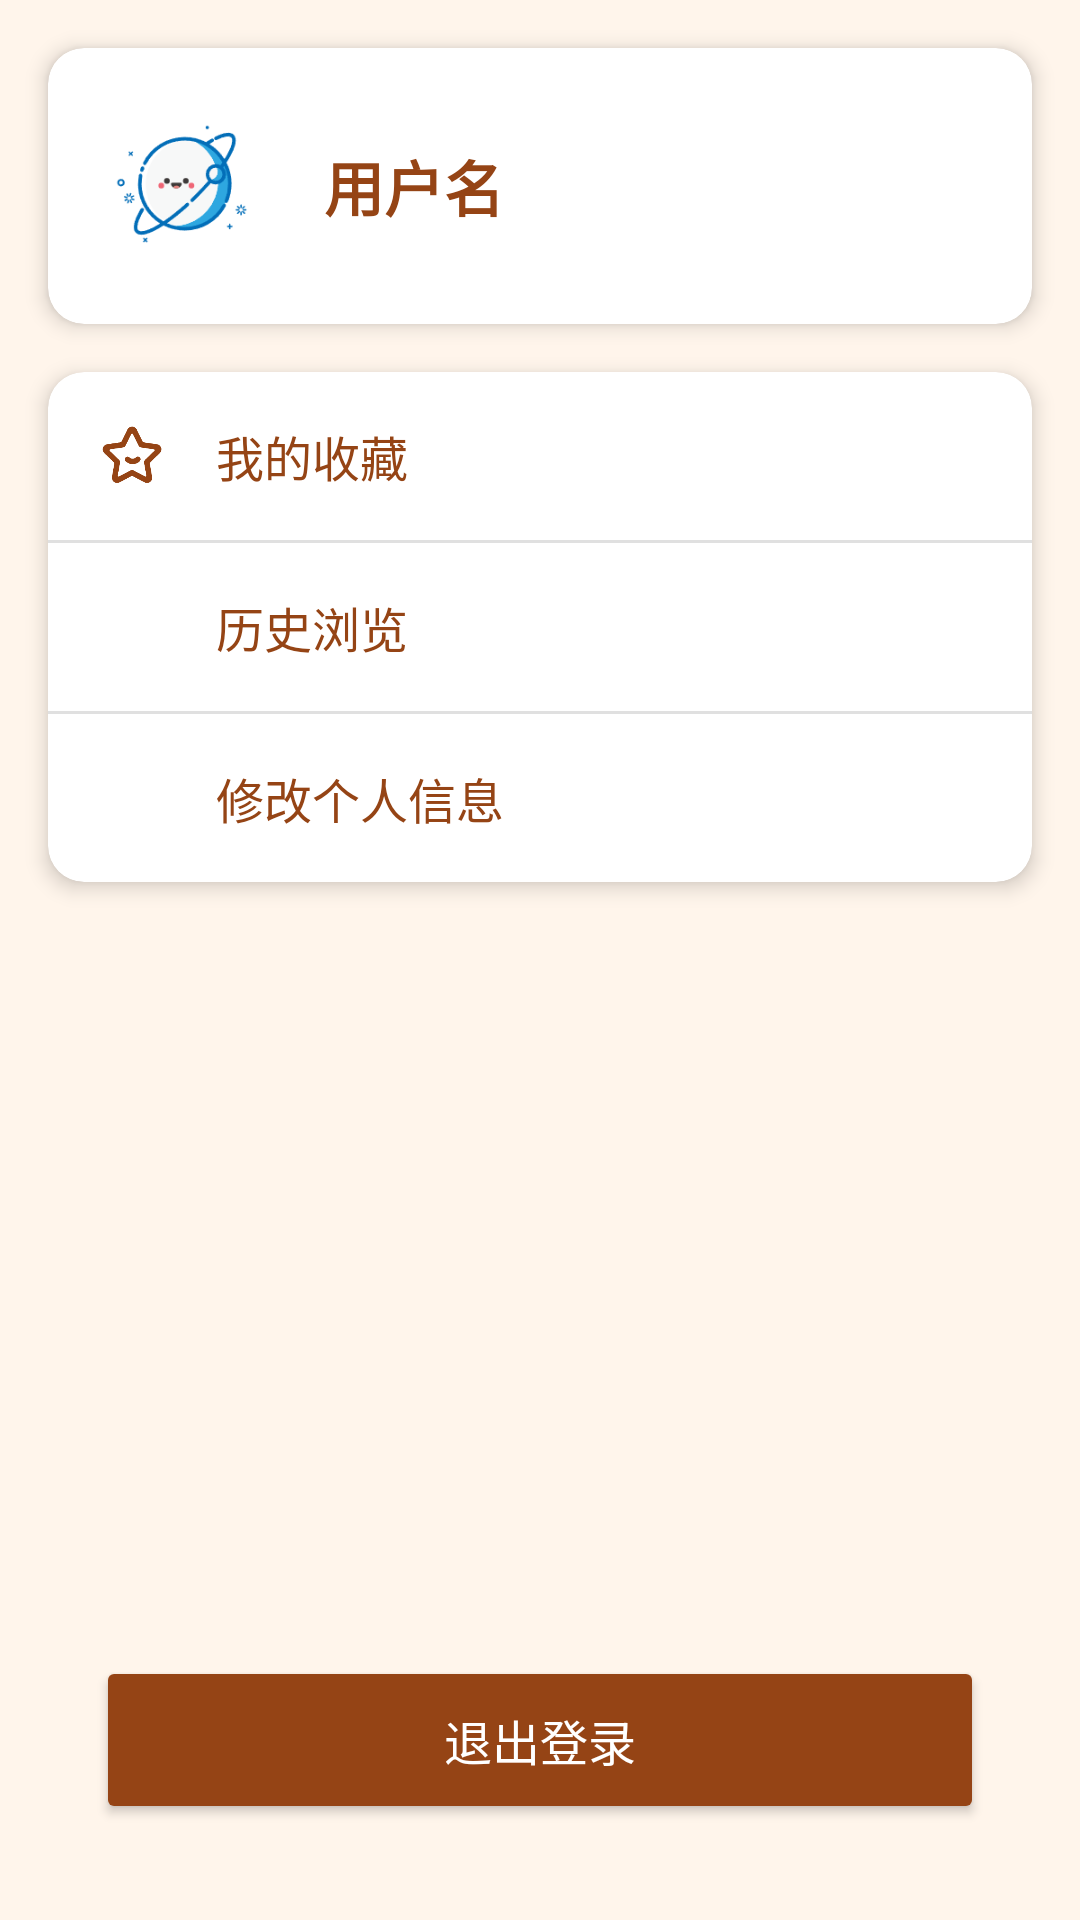

Icons on this 1080px x 1920px Android screen, each with the point to tap as (x,y):
favorite: (132,454)
